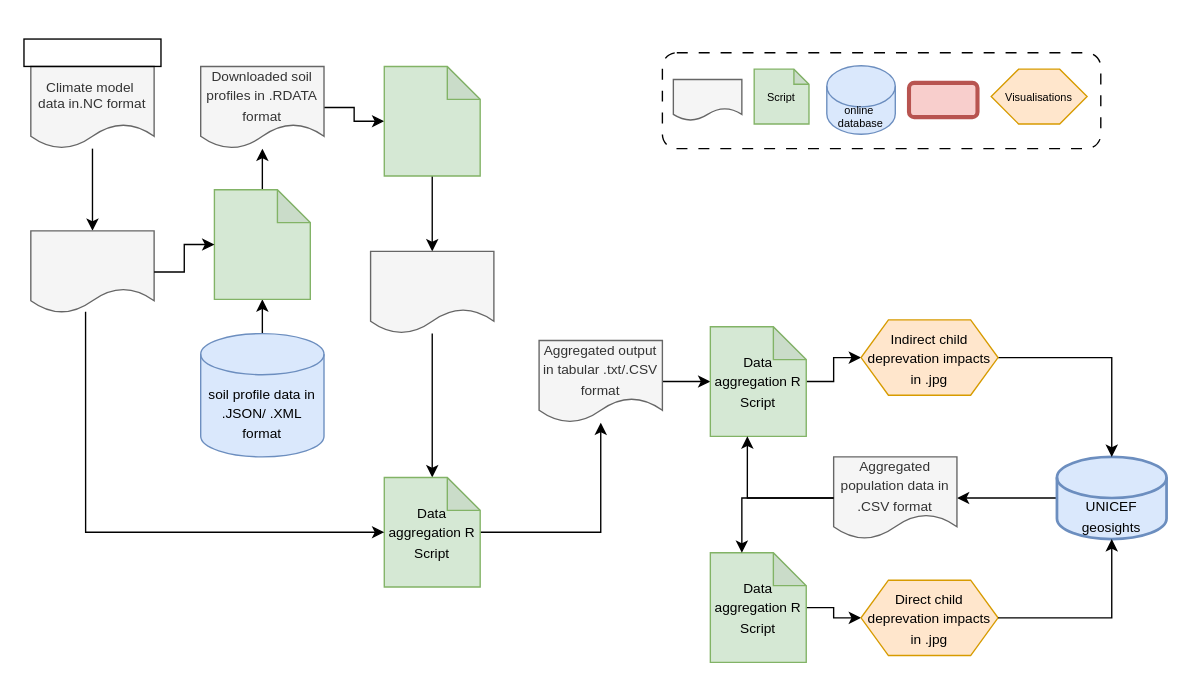
Some shapes in this 1192 by 686 pixel diagram are drawn without their labels. Here are the shapes that lost their labels. From the top down, the centre of each, then its label:
(92,52): observational, reanalysis and model data
(707,99): local data
(942,99): Model
(431,120): 03_ run APSIM_loop.R
(261,243): 02_ prepare _soil_data.R
(91,271): Country/ region shapefile
(431,292): Outputs in tabular .txt/.CSV
